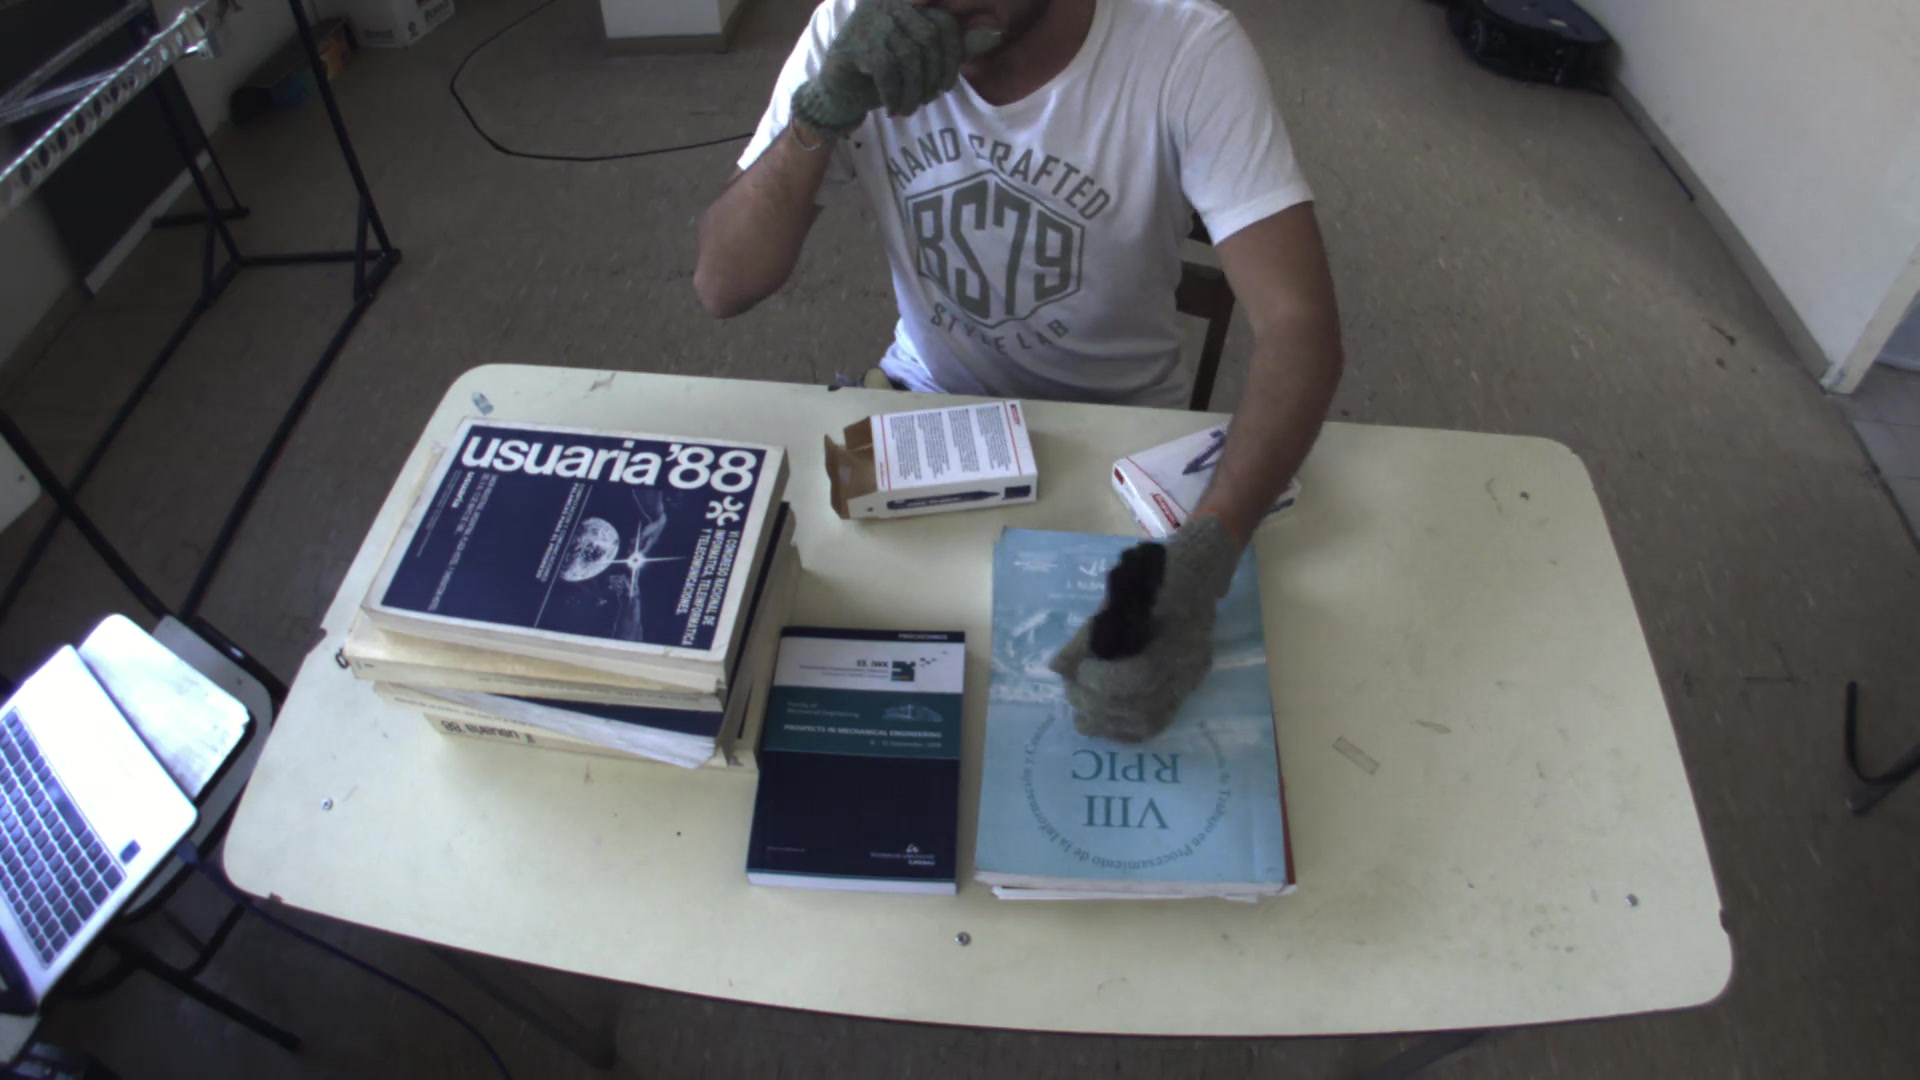hand: (1036, 518, 1250, 760), (793, 0, 986, 131)
